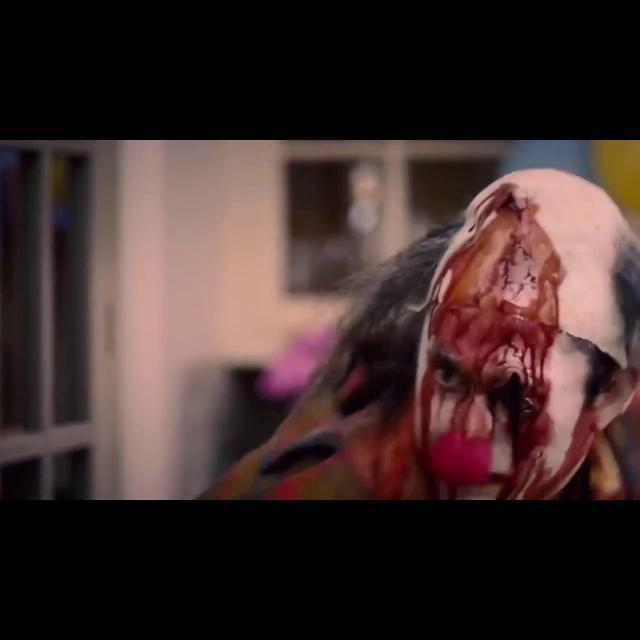blood: (416, 183, 564, 498), (544, 408, 598, 499)
